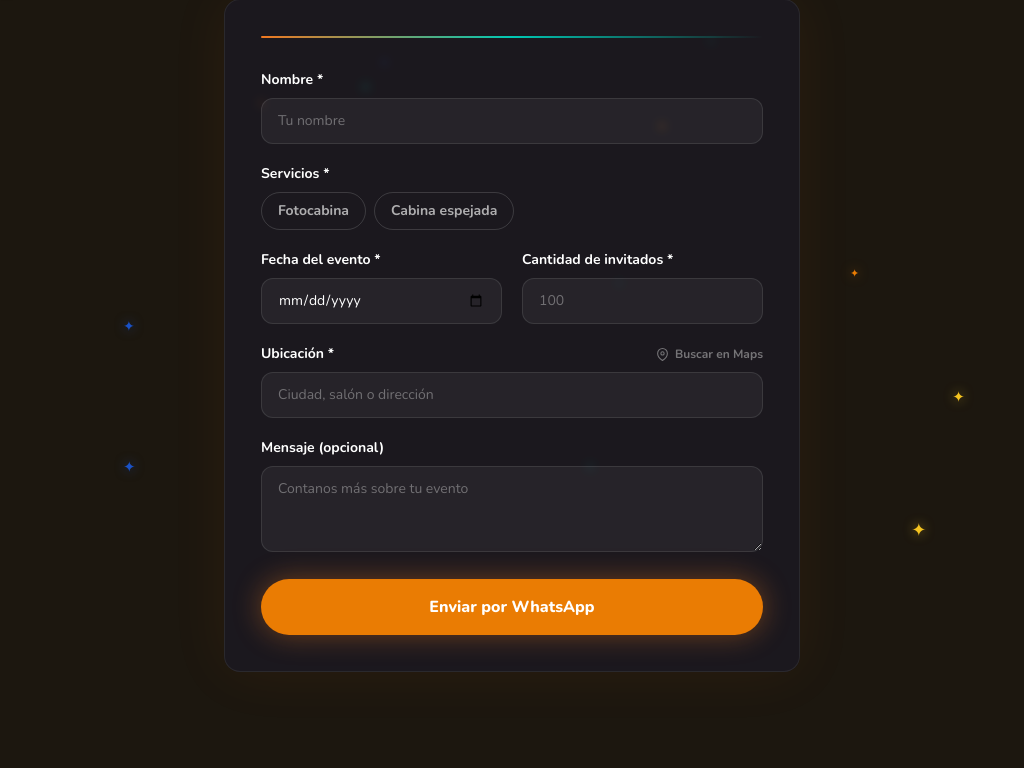
Test: QuoteForm › muestra un error si se envía sin completar campos obligatorios
(page scrolled)
Step 1. Click the button "Enviar por WhatsApp" → (512,607), box [261,579,763,635]
(page scrolled)
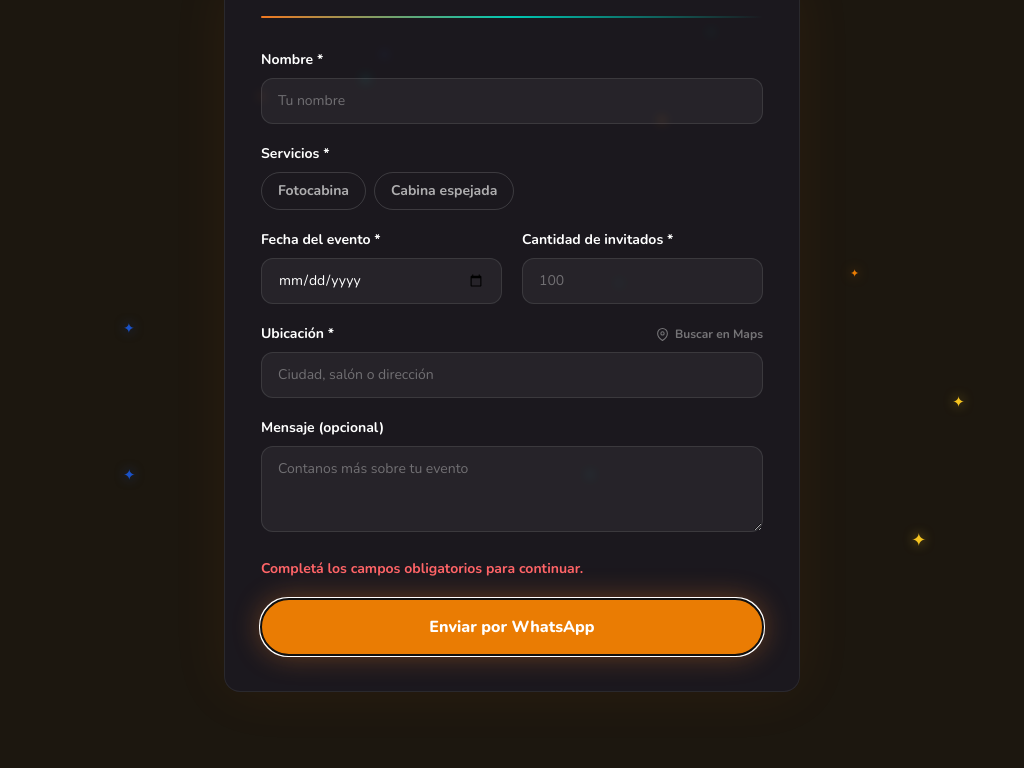
Check: the text "Completá los campos obligatorios para continuar." is shown, box [261,559,583,578]
